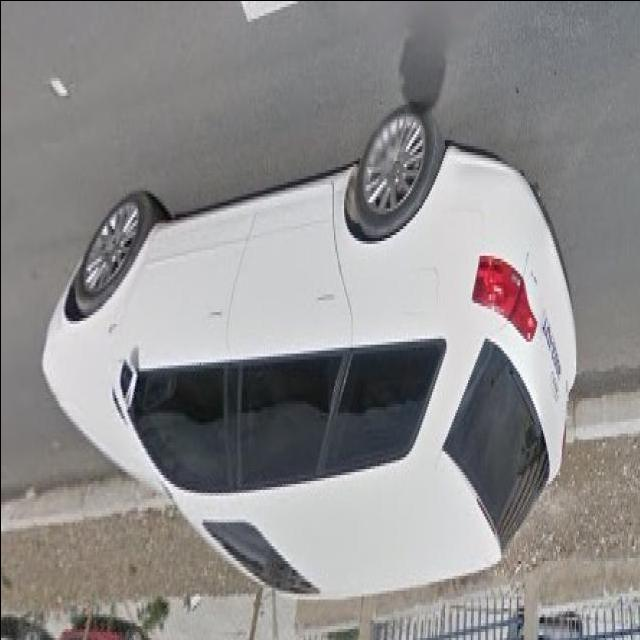car: (43, 112, 578, 593)
